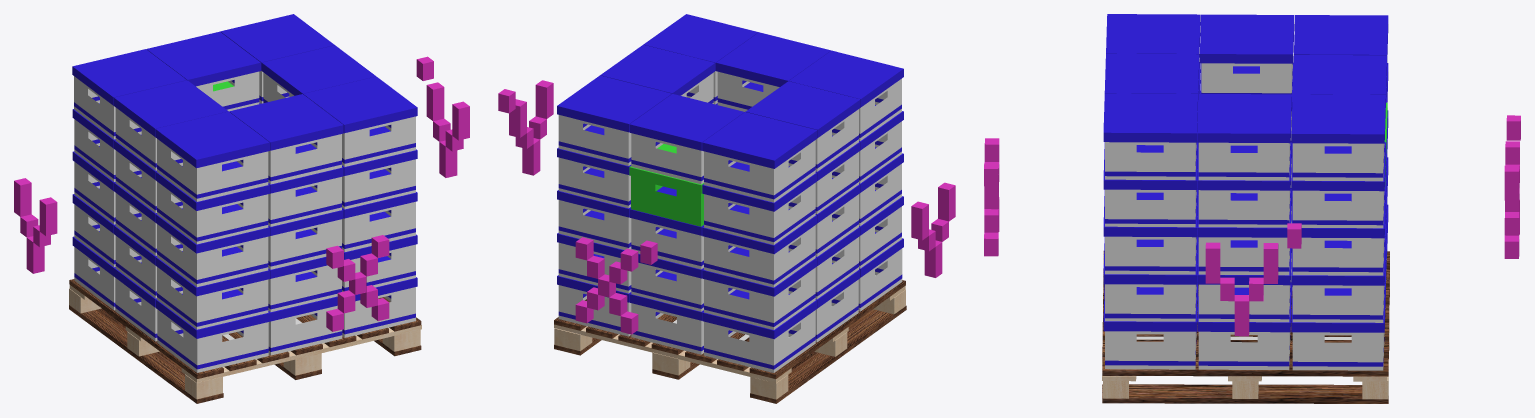
The model's file is caja234.gltf.
3 views of the same model, side by side, from view 1: azimuth 30°, elevation 25°; view 2: azimuth 150°, elevation 25°; view 3: azimuth 270°, elevation 25° (orthographic). The views are drawn at different scales.
Visible parts, largest first — view 1: Cube.031_1, Cube.026_1, Cube.033_1, Cube.040_1, Cube.032_1, Cube.030_1, Cube.027_1, Cube.007_0, Cube.020_0, Cube.031_0, Cube.012_0, Cube.039_0 (+54 smaller); view 2: Cube.032_1, Cube.040_1, Cube.028_1, Cube.033_1, Cube.030_1, Cube.031_1, Cube.027_1, Cube.014_0, Cube.032_0, Cube.037_0, Cube.022_0, Cube.029_0 (+53 smaller); view 3: Cube.026_1, Cube.028_1, Cube.027_1, Cube.030_1, Cube055, Cube.033_1, Cube.032_1, Cube.040_1, Cube.031_1, Cube.003_0, Cube.001_0, Cube.002_0 (+32 smaller).
Boxes of the visible parts, x1,y1,x2,y2 form: Cube.031_1: (155,111,269,198); Cube.026_1: (303,76,417,163); Cube.033_1: (229,94,343,181); Cube.040_1: (146,31,260,109); Cube.032_1: (72,49,186,136); Cube.030_1: (114,80,228,167); Cube.027_1: (261,45,375,102); Cube.007_0: (157,309,268,372); Cube.020_0: (157,224,268,287); Cube.031_0: (157,139,268,201); Cube.012_0: (157,267,268,329); Cube.039_0: (157,181,268,244); Cube.032_1: (702,112,817,199); Cube.040_1: (629,94,744,181); Cube.028_1: (557,75,671,162); Cube.033_1: (716,32,831,109); Cube.030_1: (745,81,860,168); Cube.031_1: (789,50,903,137); Cube.027_1: (600,44,715,103); Cube.014_0: (704,310,815,372); Cube.032_0: (704,140,815,202); Cube.037_0: (704,225,815,287); Cube.022_0: (704,267,815,329); Cube.029_0: (704,183,815,244); Cube.026_1: (1103,93,1197,176); Cube.028_1: (1291,94,1385,177); Cube.027_1: (1197,94,1291,177); Cube.030_1: (1199,14,1294,94); Cube055: (1102,384,1388,403); Cube.033_1: (1104,53,1199,99); Cube.032_1: (1294,15,1388,55); Cube.040_1: (1292,55,1387,96); Cube.031_1: (1106,14,1200,57); Cube.003_0: (1292,332,1384,370); Cube.001_0: (1105,331,1196,369); Cube.002_0: (1198,331,1290,370).
Bounding box in the file's own units: 4.23 × 2.33 × 4.22.
82 materials, 2 textured.
